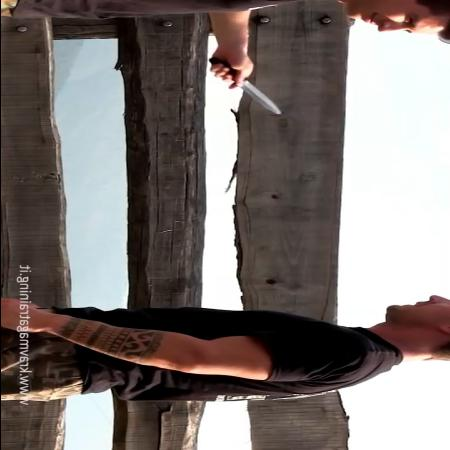long weapon: (202, 53, 288, 119)
